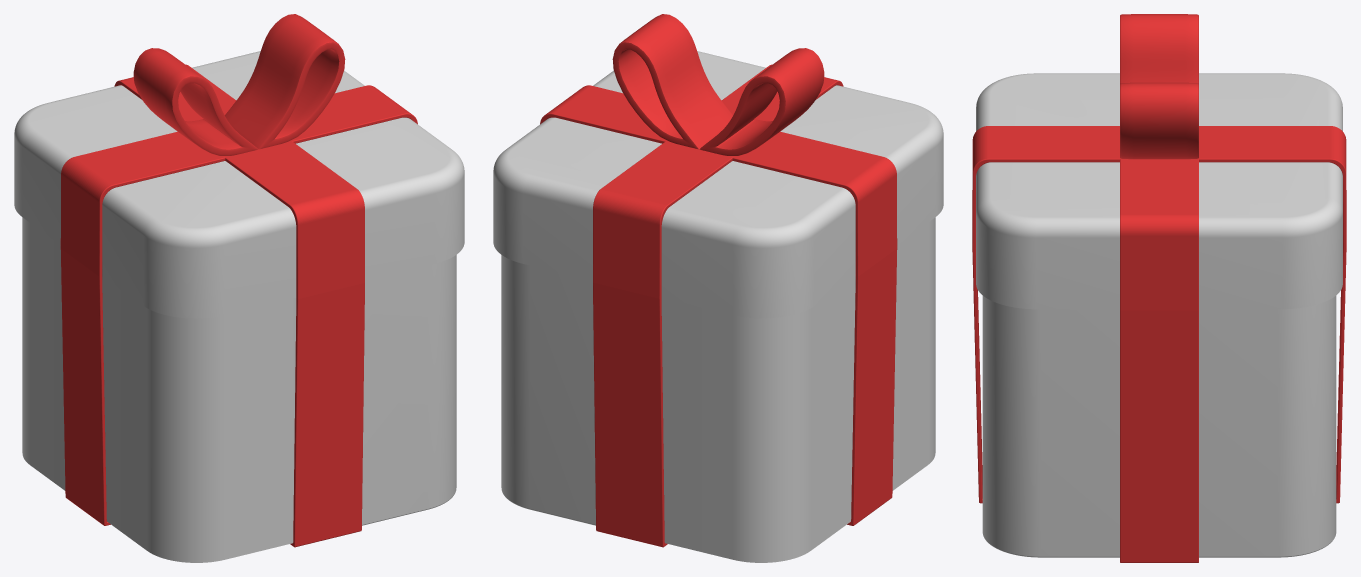
The model's file is Gift.fbx.
3 renders of one model, left to right at view 1: azimuth 30°, elevation 25°; view 2: azimuth 150°, elevation 25°; view 3: azimuth 270°, elevation 25°, orthographic.
Visible parts, largest first — view 1: Cube, Cube.003, Cube.001; view 2: Cube, Cube.003, Cube.001; view 3: Cube, Cube.003, Cube.001.
Boxes of the visible parts, x1,y1,x2,y2 form: Cube: (22,217,456,562); Cube.003: (60,14,417,547); Cube.001: (14,51,464,318); Cube: (501,217,935,562); Cube.003: (540,14,897,547); Cube.001: (493,51,943,318); Cube: (982,295,1336,557); Cube.003: (972,14,1346,562); Cube.001: (976,73,1342,309).
Bounding box in the file's own units: 211 × 272 × 212.
